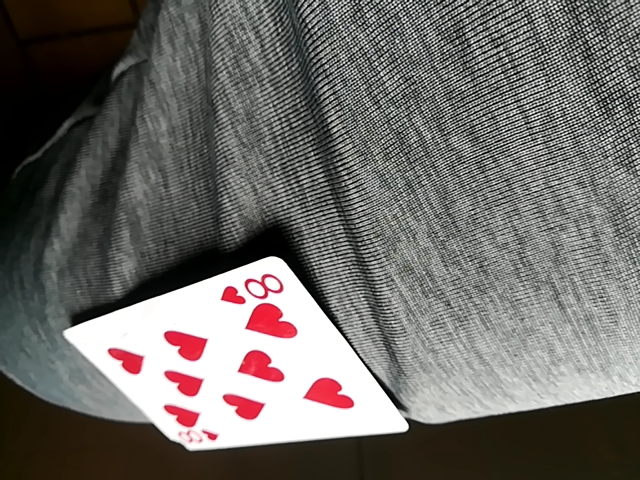hx 8: (60, 257, 412, 447)
